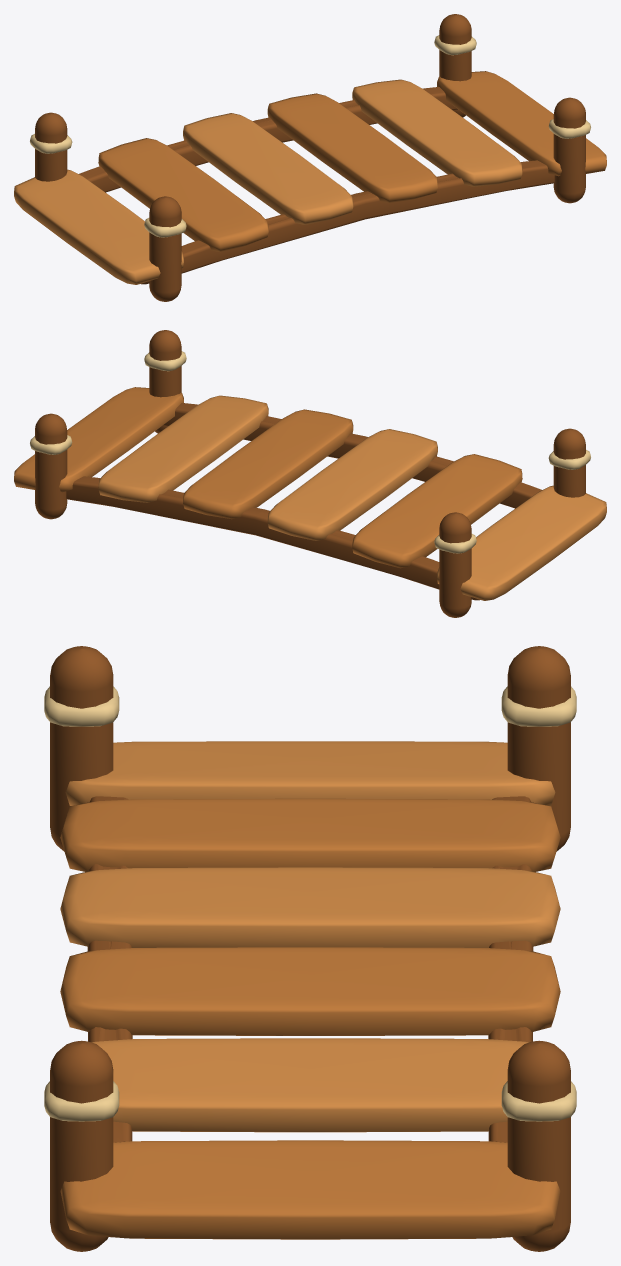
Rendered from wooden_bridge.glb.
3 renders of one model, top to bottom at view 1: azimuth 30°, elevation 25°; view 2: azimuth 150°, elevation 25°; view 3: azimuth 270°, elevation 25°, orthographic. The views are drawn at different scales.
Parts seen in each view (by area): view 1: Plank_3, Plank_4, Plank_2, Plank_5, Plank_1, Plank_6, Beam_Front, Post_R_F, Post_L_F, Post_R_B, Post_L_B, Beam_Back; view 2: Plank_3, Plank_4, Plank_2, Plank_5, Plank_1, Plank_6, Beam_Back, Post_R_B, Post_L_B, Post_R_F, Post_L_F, Beam_Front; view 3: Plank_6, Plank_4, Plank_3, Plank_5, Plank_2, Plank_1, Post_R_B, Post_R_F, Post_L_B, Post_L_F, Beam_Front, Beam_Back.
Boxes of the visible parts, left/top/right/bottom form: Plank_3: left=183, top=113, right=353, bottom=224; Plank_4: left=267, top=93, right=437, bottom=203; Plank_2: left=98, top=138, right=268, bottom=252; Plank_5: left=352, top=79, right=522, bottom=186; Plank_1: left=14, top=169, right=183, bottom=284; Plank_6: left=437, top=71, right=606, bottom=176; Beam_Front: left=141, top=160, right=554, bottom=284; Post_R_F: left=548, top=97, right=590, bottom=203; Post_L_F: left=144, top=196, right=186, bottom=301; Post_R_B: left=434, top=14, right=476, bottom=117; Post_L_B: left=30, top=112, right=72, bottom=181; Beam_Back: left=79, top=87, right=457, bottom=192; Plank_3: left=267, top=429, right=437, bottom=540; Plank_4: left=183, top=409, right=353, bottom=519; Plank_2: left=352, top=454, right=522, bottom=568; Plank_5: left=98, top=395, right=268, bottom=502; Plank_1: left=437, top=485, right=606, bottom=600; Plank_6: left=14, top=387, right=183, bottom=492; Beam_Back: left=66, top=476, right=479, bottom=600; Post_R_B: left=30, top=413, right=72, bottom=519; Post_L_B: left=434, top=512, right=476, bottom=617; Post_R_F: left=144, top=330, right=186, bottom=433; Post_L_F: left=548, top=428, right=590, bottom=497; Beam_Front: left=163, top=403, right=541, bottom=508; Plank_6: left=60, top=1140, right=560, bottom=1239; Plank_4: left=60, top=947, right=560, bottom=1035; Plank_3: left=60, top=867, right=560, bottom=947; Plank_5: left=91, top=1038, right=529, bottom=1132; Plank_2: left=60, top=798, right=560, bottom=871; Plank_1: left=65, top=741, right=555, bottom=805; Post_R_B: left=501, top=1040, right=576, bottom=1251; Post_R_F: left=44, top=1040, right=119, bottom=1251; Post_L_B: left=501, top=646, right=576, bottom=851; Post_L_F: left=44, top=646, right=119, bottom=851; Beam_Front: left=87, top=796, right=132, bottom=1237; Beam_Back: left=488, top=796, right=533, bottom=1237.
Size of the model in its own units: 2.36 by 0.476 by 1.12.
